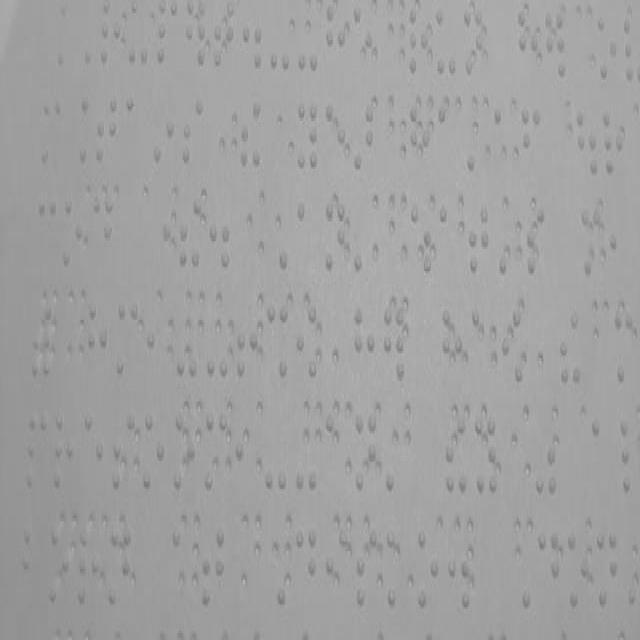braiile: (354, 518, 380, 612), (535, 522, 561, 616), (413, 523, 441, 610), (590, 407, 616, 500), (140, 408, 166, 499), (107, 521, 133, 612), (384, 521, 410, 612), (199, 524, 225, 614), (593, 524, 619, 614), (473, 411, 499, 500), (353, 402, 377, 496), (618, 402, 640, 504), (50, 406, 76, 492), (48, 526, 74, 612), (81, 401, 105, 492), (293, 521, 317, 612), (566, 526, 590, 616), (524, 200, 548, 289), (112, 409, 136, 498), (203, 410, 229, 492), (352, 296, 376, 384), (172, 410, 196, 497), (77, 521, 101, 608), (173, 523, 197, 610), (322, 196, 348, 276), (22, 515, 44, 609), (466, 201, 490, 283), (326, 516, 348, 604), (93, 91, 117, 171), (180, 94, 204, 174), (295, 98, 319, 178), (61, 191, 85, 271), (90, 191, 114, 271), (115, 300, 139, 380), (24, 409, 48, 489), (123, 86, 145, 172), (441, 301, 464, 383), (39, 94, 63, 172), (612, 304, 634, 389), (324, 97, 346, 179), (470, 302, 492, 382), (601, 106, 625, 178), (438, 201, 460, 279), (581, 203, 603, 281), (88, 298, 109, 378), (100, 13, 122, 89), (184, 18, 206, 94), (212, 20, 234, 96), (242, 18, 264, 94), (435, 100, 457, 176), (520, 100, 542, 176), (36, 191, 58, 267), (464, 29, 486, 104), (544, 29, 566, 104), (408, 101, 429, 179), (326, 411, 346, 491), (296, 195, 316, 272), (518, 30, 540, 99), (492, 104, 514, 172), (326, 21, 346, 95), (598, 32, 618, 101), (366, 26, 386, 94), (408, 28, 428, 96), (156, 20, 174, 91)
